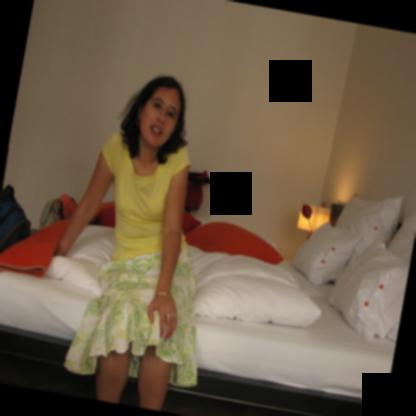backpack: (0, 183, 31, 253)
